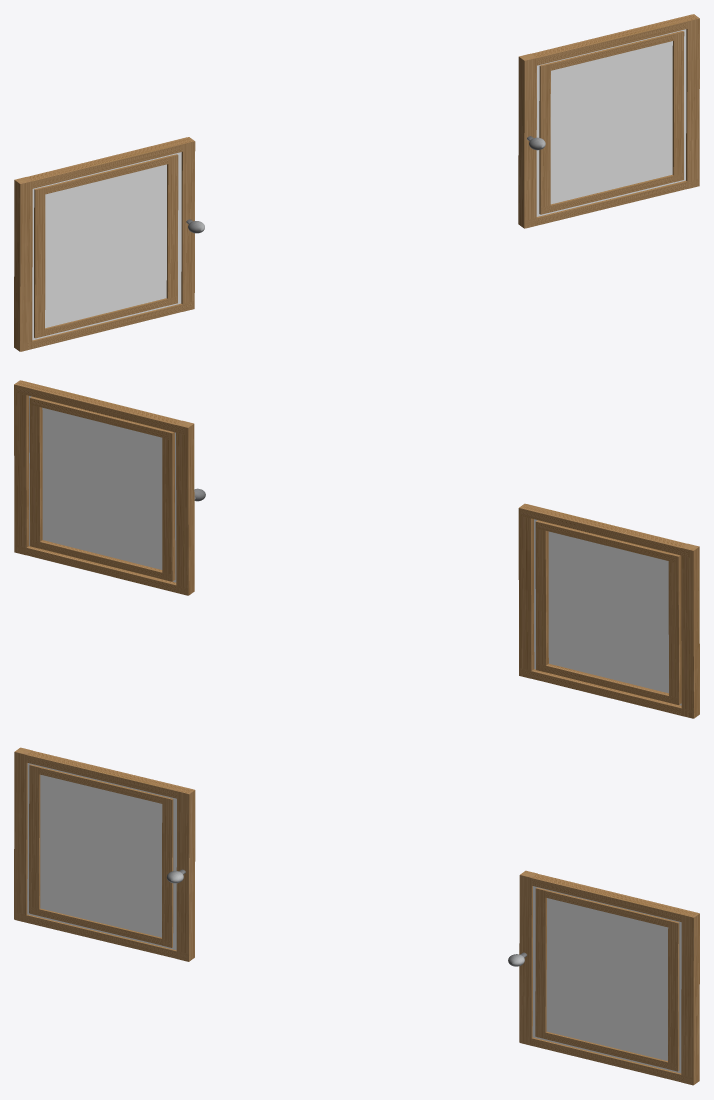
Rendered from Wall Cabinet 1 (Parts - Doors Closed).fbx.
3 views of the same model, one above another, from view 1: azimuth 30°, elevation 25°; view 2: azimuth 150°, elevation 25°; view 3: azimuth 330°, elevation 25° (orthographic).
Visible parts, largest first — view 1: Glass Pane 1, Door Frame 1 Pane, Door Frame 2, Door Frame 1, Door Frame 2.001, Door Frame 1 Inner; view 2: Glass Pane 1, Door Frame 1 Pane, Door Frame 1, Door Frame 2, Door Frame 1 Inner, Door Frame 2.001; view 3: Door Frame 1 Pane, Glass Pane 1, Door Frame 2, Door Frame 1, Door Frame 2.001, Door Frame 1 Inner.
Part boxes in pixels (x1,y1,x2,y2): Glass Pane 1: [536, 29, 686, 216]; Door Frame 1 Pane: [32, 152, 181, 340]; Door Frame 2: [518, 14, 699, 228]; Door Frame 1: [14, 137, 195, 351]; Door Frame 2.001: [539, 31, 684, 214]; Door Frame 1 Inner: [34, 154, 178, 338]; Glass Pane 1: [29, 396, 176, 582]; Door Frame 1 Pane: [534, 519, 681, 705]; Door Frame 1: [518, 503, 699, 718]; Door Frame 2: [14, 380, 194, 595]; Door Frame 1 Inner: [535, 520, 681, 704]; Door Frame 2.001: [29, 396, 175, 581]; Door Frame 1 Pane: [27, 763, 176, 950]; Glass Pane 1: [532, 886, 681, 1073]; Door Frame 2: [519, 870, 699, 1085]; Door Frame 1: [14, 747, 195, 961]; Door Frame 2.001: [535, 887, 679, 1071]; Door Frame 1 Inner: [29, 764, 173, 947].
Bounding box in the file's own units: 2.6 × 0.6149 × 0.1216.
20 materials, 20 textured.
